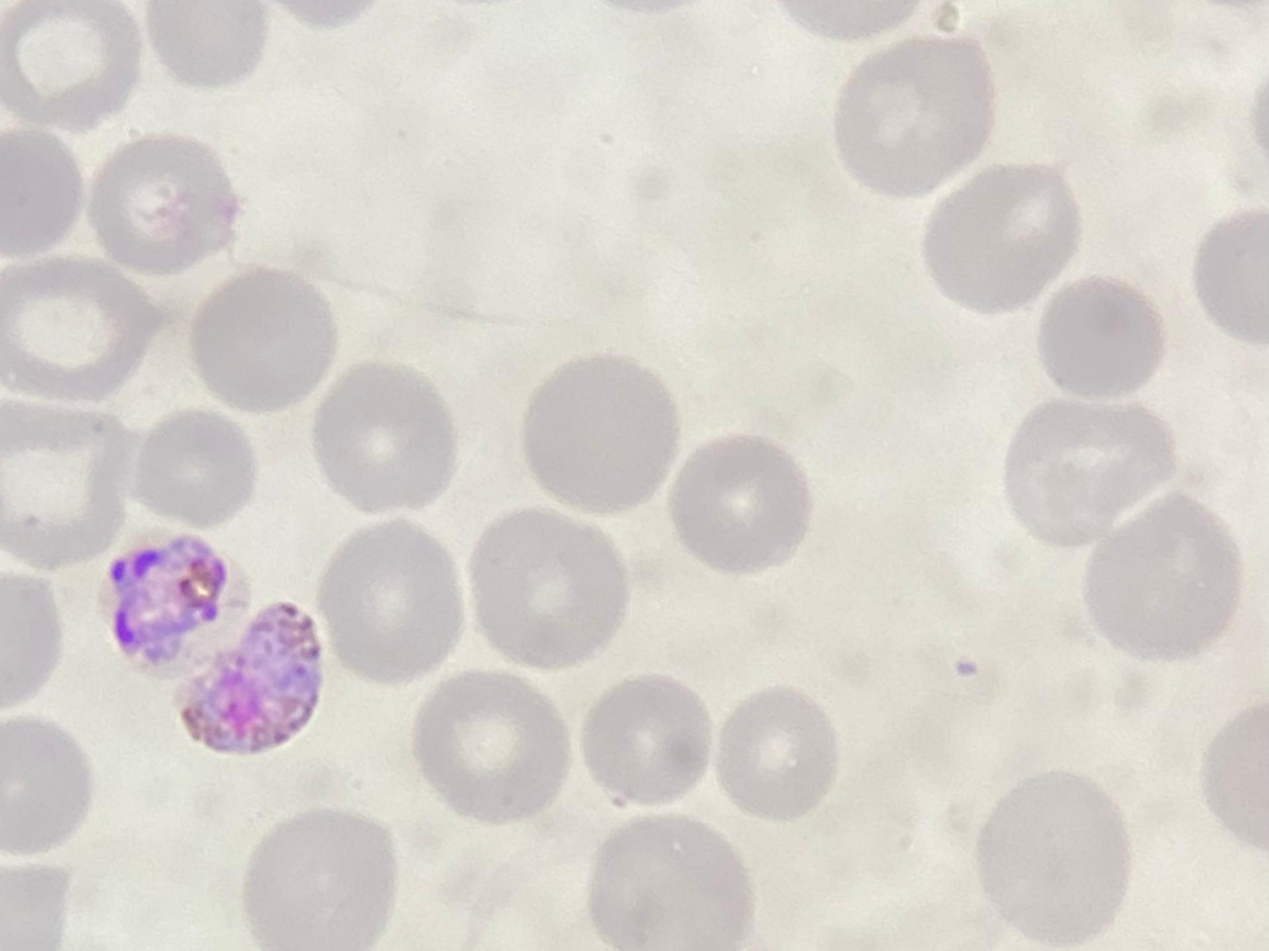Infected: (172, 603, 324, 753), (109, 532, 258, 674)
Uninfected: (836, 30, 994, 197), (1083, 495, 1239, 662), (975, 773, 1128, 942), (467, 510, 627, 670), (521, 354, 682, 510), (315, 521, 467, 682), (411, 671, 569, 825), (1, 255, 165, 402), (922, 159, 1080, 311), (1002, 402, 1171, 544), (1, 397, 137, 567), (311, 361, 461, 511), (584, 814, 748, 947), (188, 269, 338, 414), (241, 810, 396, 948), (89, 135, 238, 276), (668, 434, 813, 572), (1, 1, 138, 133), (580, 674, 712, 808), (714, 686, 837, 820), (1038, 276, 1167, 396), (128, 408, 254, 530), (1, 128, 85, 259), (147, 1, 266, 88)
